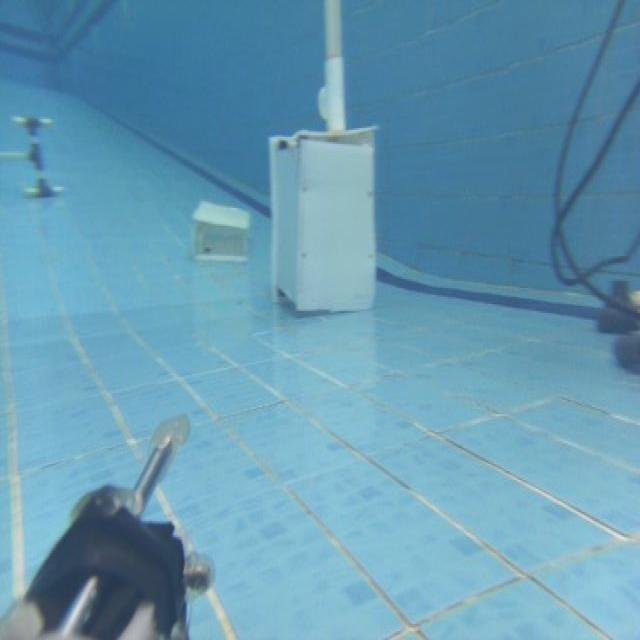Cube: (267, 124, 378, 314)
Cuboid: (191, 197, 250, 263)
